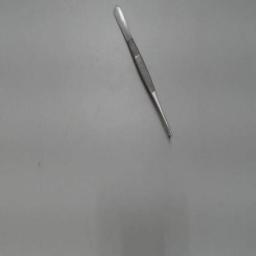Gillies Toothed Dissector: (110, 4, 176, 142)
